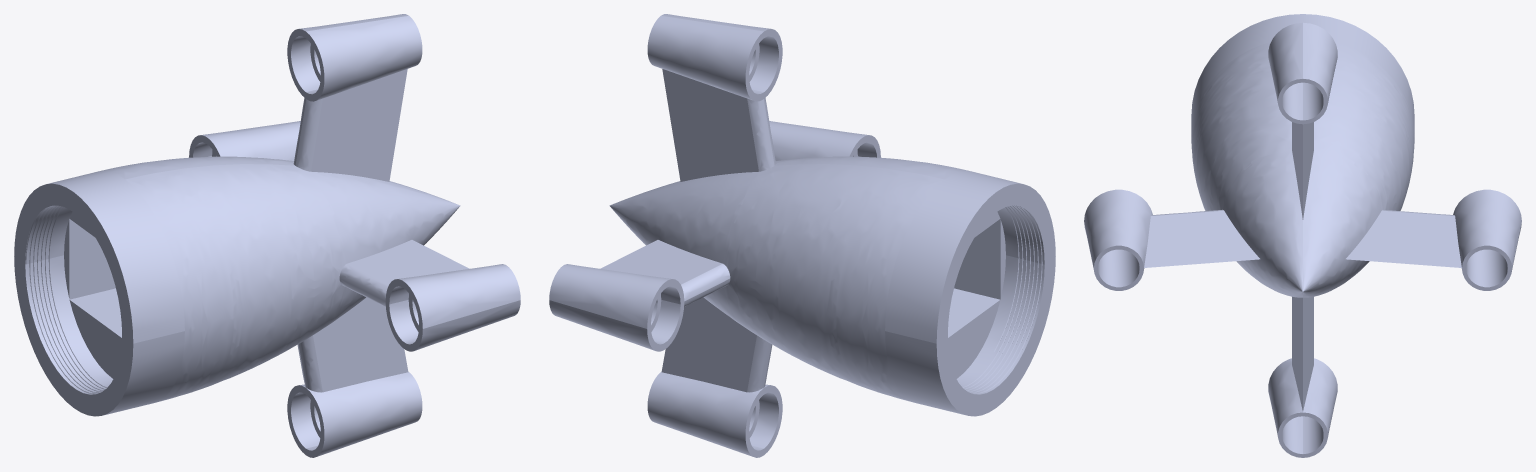
File: Drohne_Corpus.glb
The picture shows the model from 3 angles, left to right: view 1: azimuth 30°, elevation 25°; view 2: azimuth 150°, elevation 25°; view 3: azimuth 270°, elevation 25°; orthographic projection. The views are drawn at different scales.
Visible parts, largest first — view 1: empty_2; view 2: empty_2; view 3: empty_2.
Boxes of the visible parts, <box> form: empty_2: <box>14,14,520,457</box>; empty_2: <box>549,14,1055,457</box>; empty_2: <box>1084,14,1521,457</box>.
Size of the model in its own units: 300 by 314 by 314.
